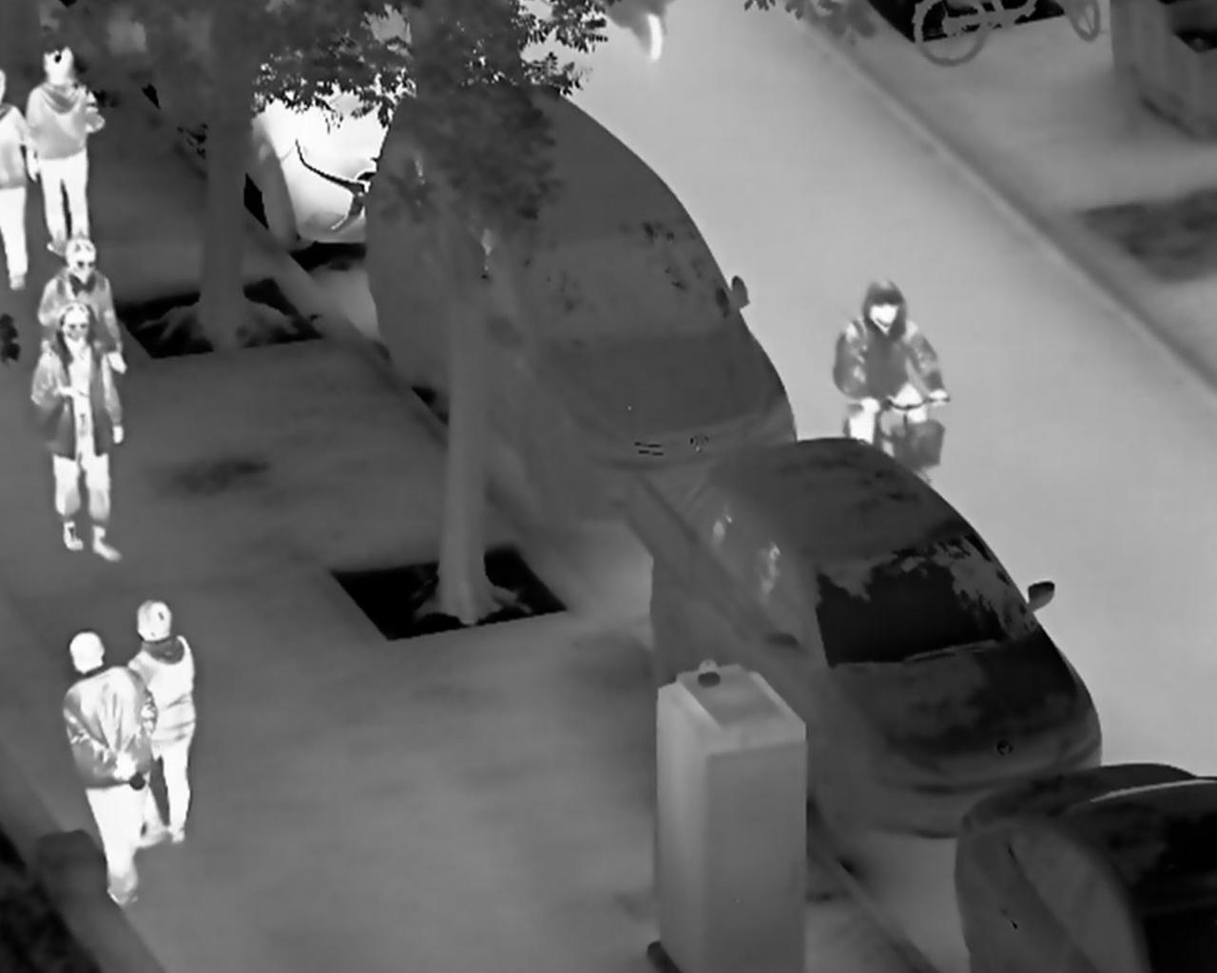person: (57, 628, 160, 906), (29, 301, 126, 563), (829, 276, 955, 447), (20, 44, 110, 257), (124, 596, 200, 848)
